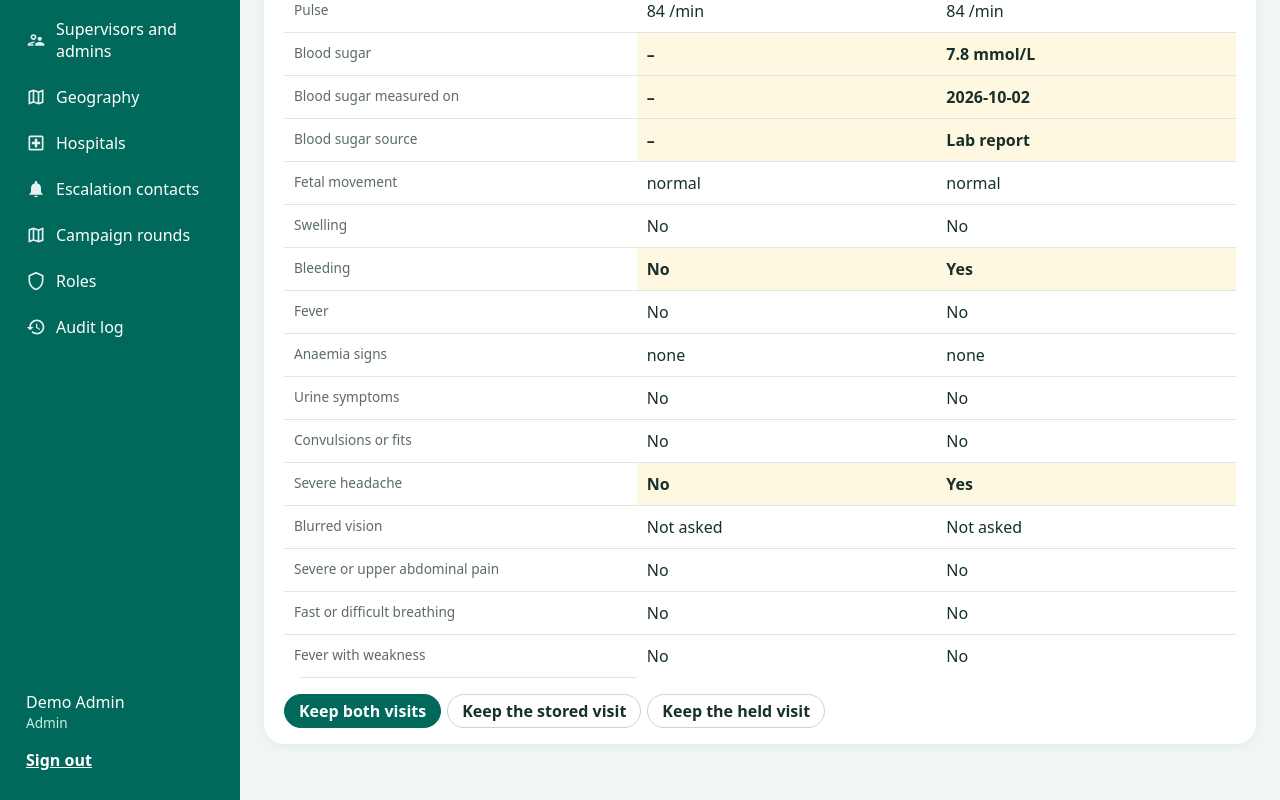
Scenario: sync conflict queue (M3 FE-2, M10) › "Keep the held visit" sends keep_incoming
(page scrolled)
Click the button "Keep the held visit".
click(736, 710)  # box x1=647 y1=694 x2=825 y2=728
(page scrolled)
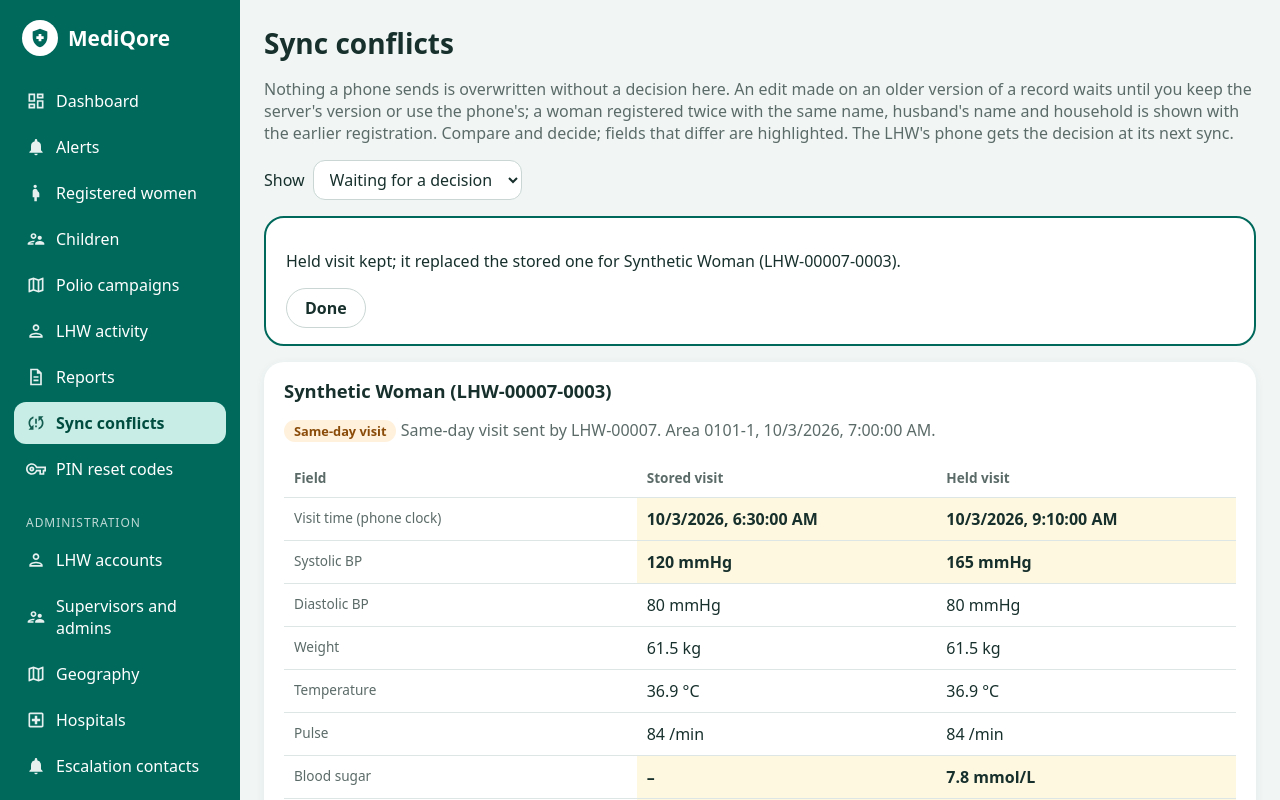
Expected: the element named "Decision saved" is shown, x1=264 y1=216 x2=1256 y2=346
